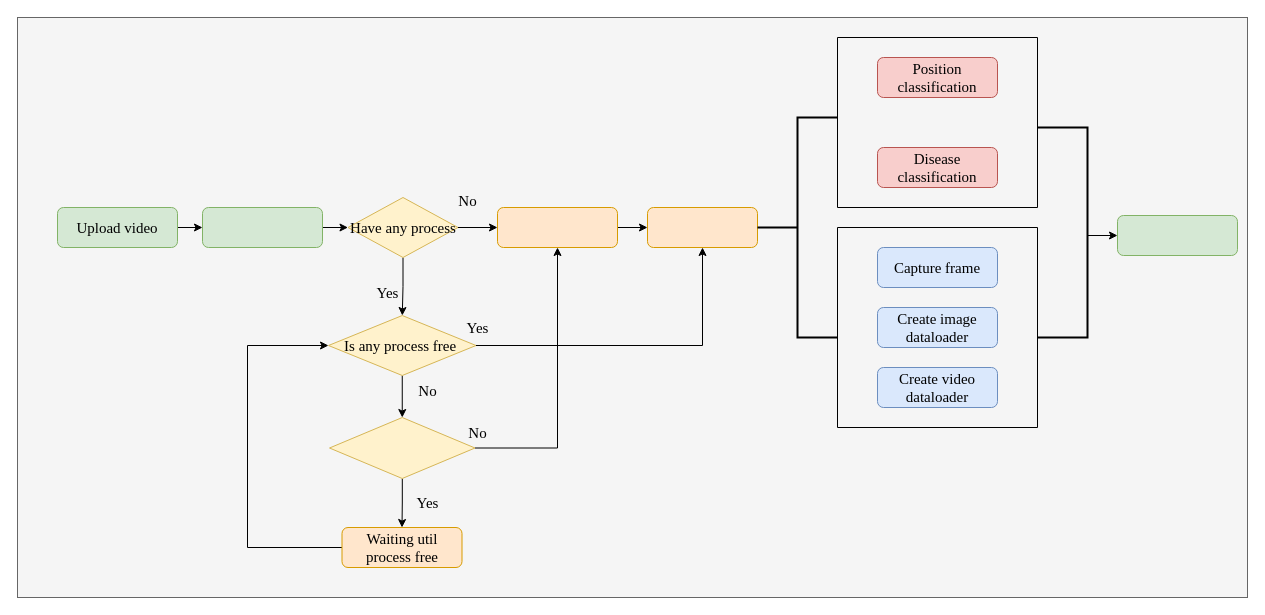
Some shapes in this 1265 by 615 pixel diagram are drawn without their labels. The box of each missing label's shape, as (x1, y1, x2, y2) in pixels:
Cleaning temp file and free process: (1116, 214, 1238, 256)
Create process: (496, 206, 618, 248)
Loading model: (646, 206, 758, 248)
Reach max process: (328, 416, 475, 478)
Store video to temp file: (202, 206, 322, 248)
